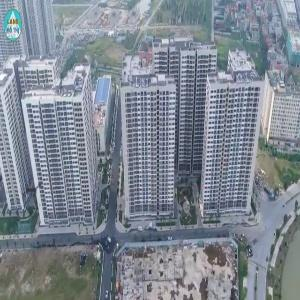drone: (12, 171, 51, 210)
